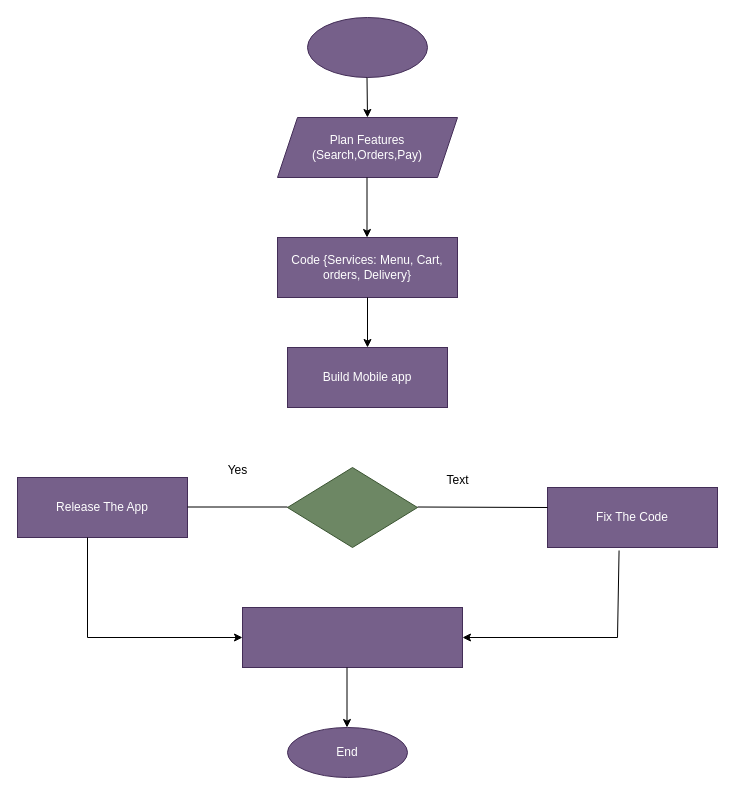
Some shapes in this 735 by 795 pixel diagram are drawn without their labels. The box of each missing label's shape, as (x1, y1, x2, y2) in pixels:
Deploy the App: (242, 606, 462, 668)
Start: (306, 16, 428, 78)
Test Passed: (286, 466, 418, 548)
